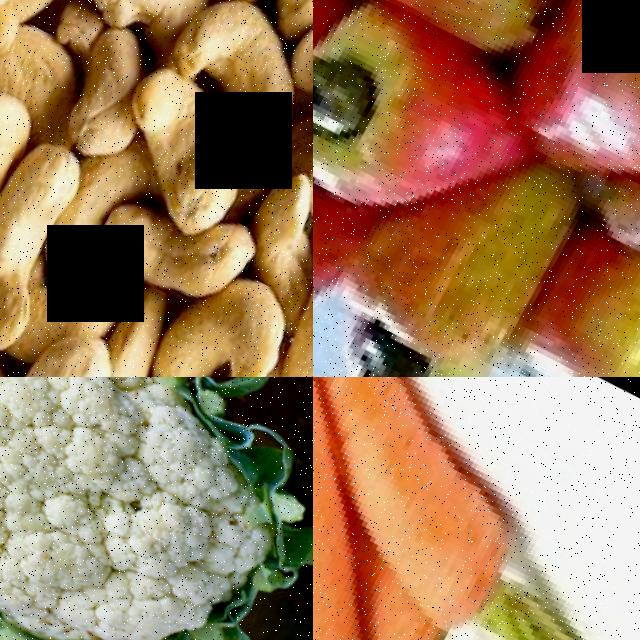carrot: (347, 462, 611, 640)
cashew: (90, 168, 264, 345), (96, 65, 267, 237), (0, 114, 103, 362), (168, 0, 312, 140), (152, 274, 295, 377), (313, 0, 388, 173), (0, 301, 143, 377), (0, 0, 126, 61), (321, 312, 437, 377), (79, 0, 200, 62), (264, 234, 313, 377), (279, 0, 313, 107), (198, 0, 282, 27), (265, 0, 313, 42)
cauliflower: (0, 377, 313, 640)
